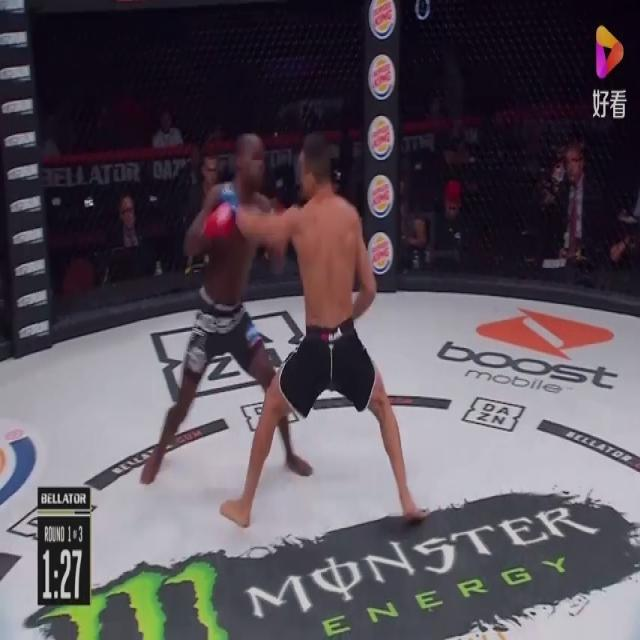fight: (133, 109, 425, 547)
